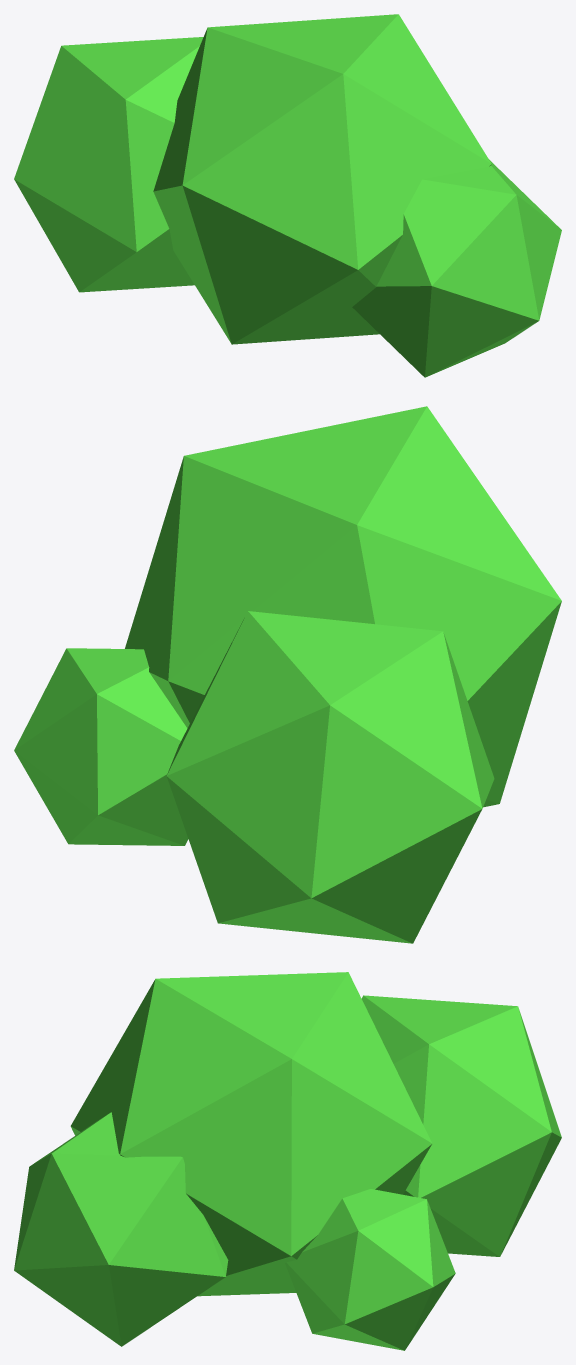
Rendered from Bush_01_v01.fbx.
3 views of the same model, one above another, from view 1: azimuth 30°, elevation 25°; view 2: azimuth 150°, elevation 25°; view 3: azimuth 270°, elevation 25° (orthographic). The views are drawn at different scales.
Visible parts, largest first — view 1: Bush; view 2: Bush; view 3: Bush.
Boxes of the visible parts, bbox=[...] form: Bush: bbox=[14, 14, 561, 377]; Bush: bbox=[14, 406, 561, 943]; Bush: bbox=[14, 972, 561, 1350].
Bounding box in the file's own units: 502 × 361 × 605.
